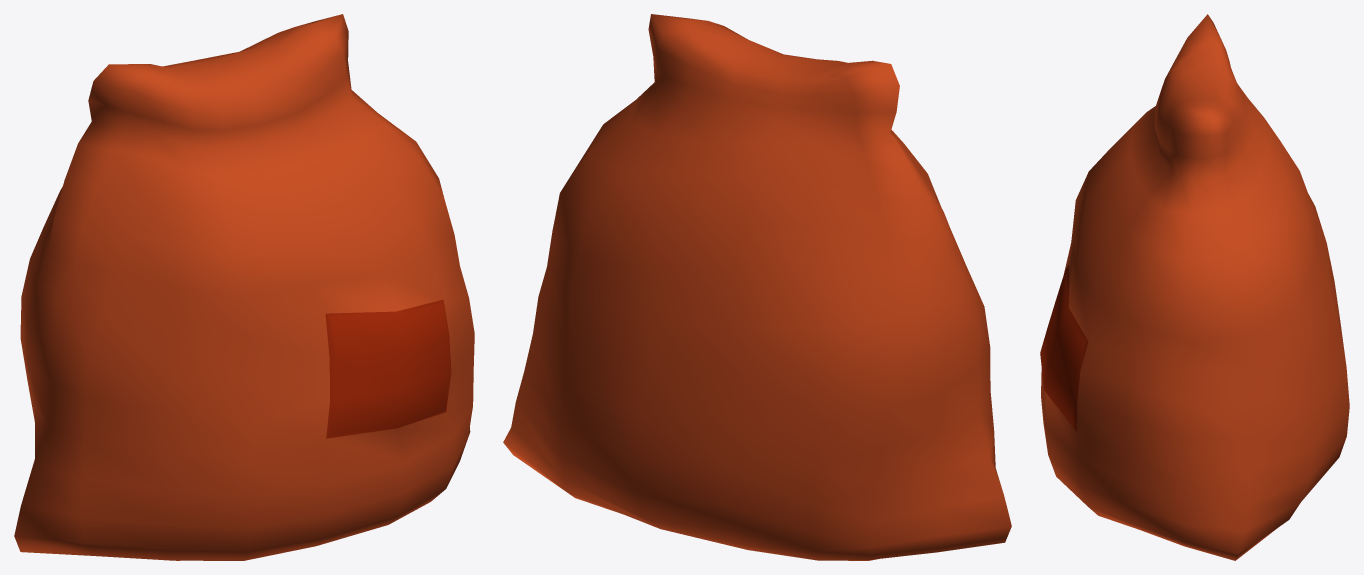
Rendered from low_poly_closed_sack_of_food.glb.
3 views of the same model, side by side, from view 1: azimuth 30°, elevation 25°; view 2: azimuth 150°, elevation 25°; view 3: azimuth 270°, elevation 25° (orthographic). The views are drawn at different scales.
Visible parts, largest first — view 1: Item7; view 2: Item7; view 3: Item7.
Part boxes in pixels (x1,y1,x2,y2): Item7: (14,14,474,560); Item7: (503,14,1011,560); Item7: (1040,14,1349,560).
Size of what is drawn, in the model's own units: 0.4204 by 0.4021 by 0.2776.
1 material, 1 textured.
